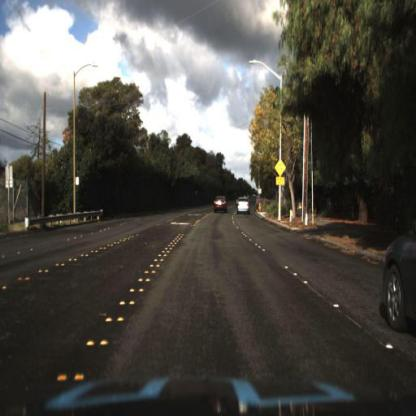car: (383, 224, 416, 339), (211, 193, 229, 219), (235, 196, 253, 217)
